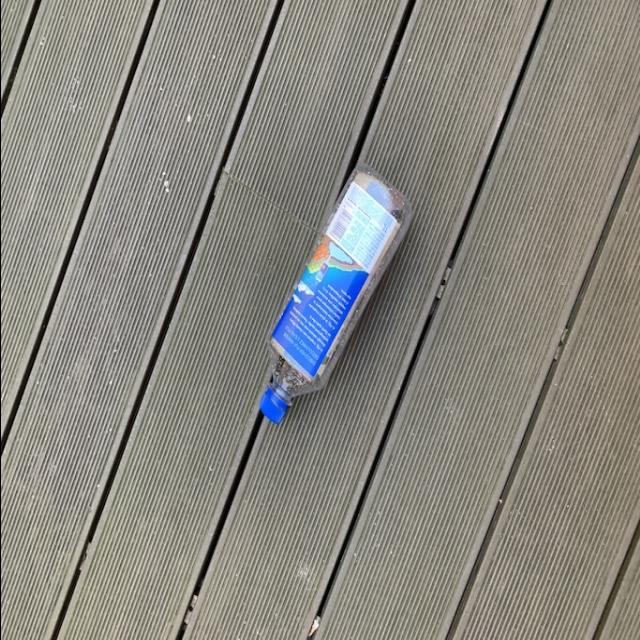PET: (251, 157, 412, 435)
